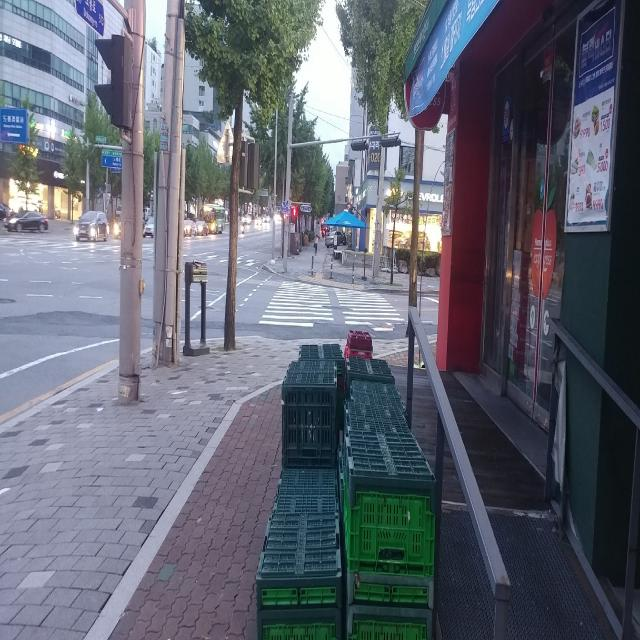횡단보도: (258, 280, 406, 332)
